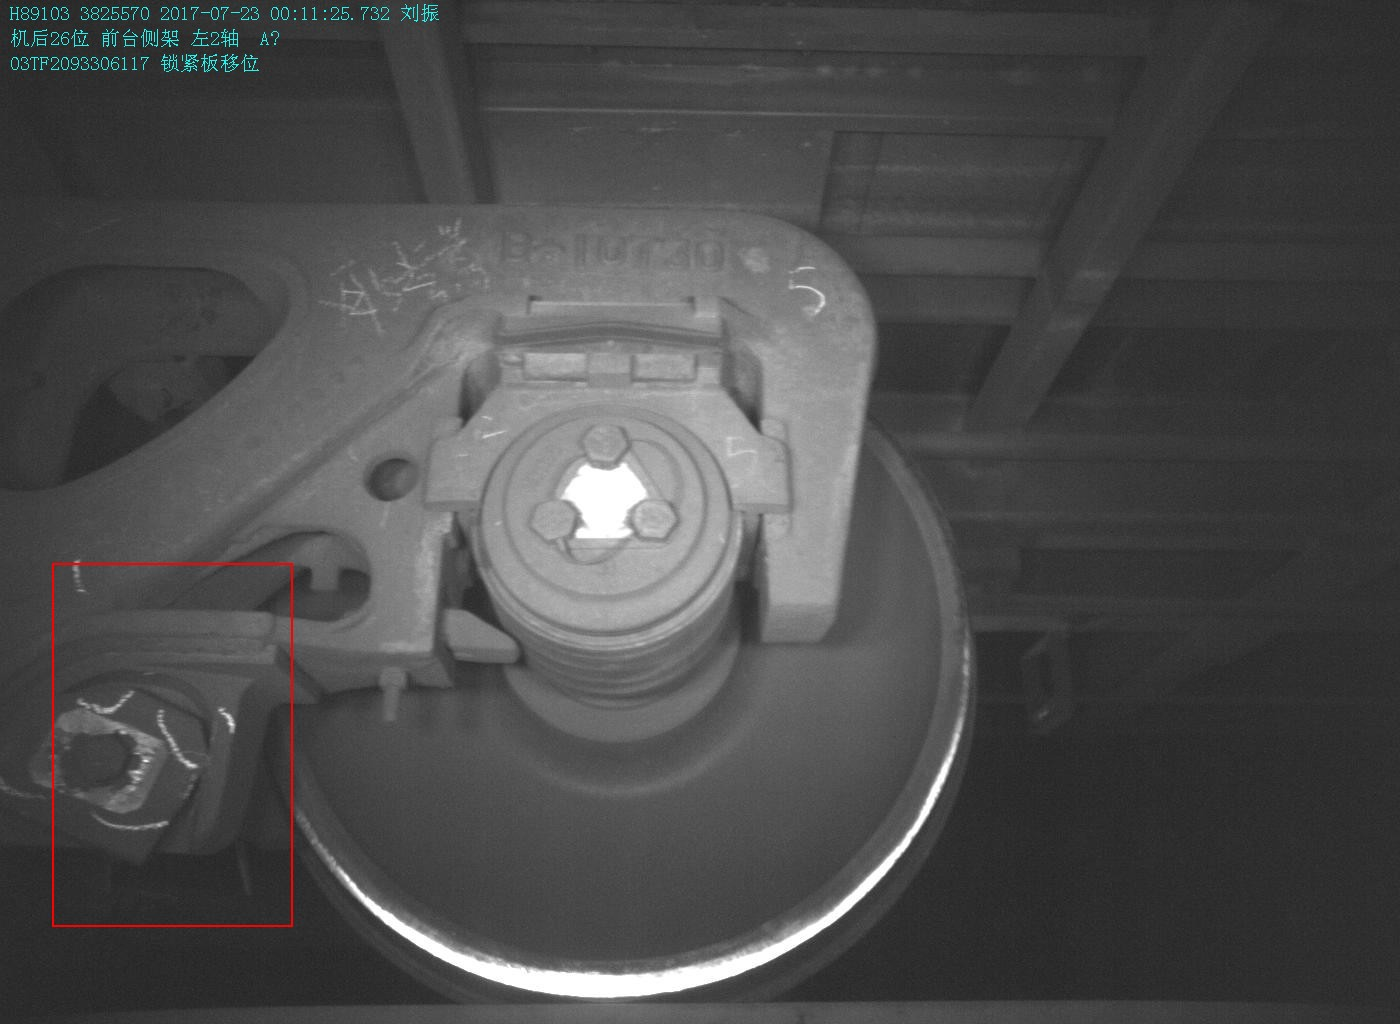Locking plate: (1, 635, 243, 867)
